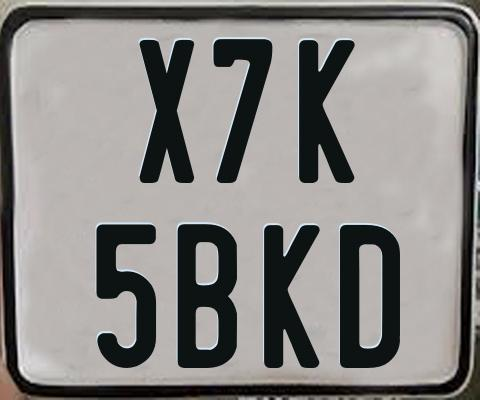5: (95, 222, 157, 368)
7: (210, 38, 275, 185)
B: (176, 221, 240, 365)
D: (337, 224, 399, 371)
K: (298, 39, 357, 188), (263, 224, 320, 369)
X: (138, 38, 193, 186)
